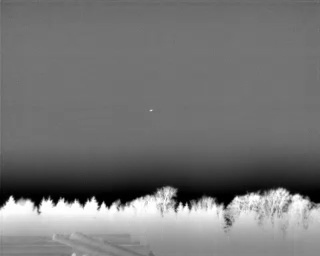BIRD: (148, 107, 155, 114)
